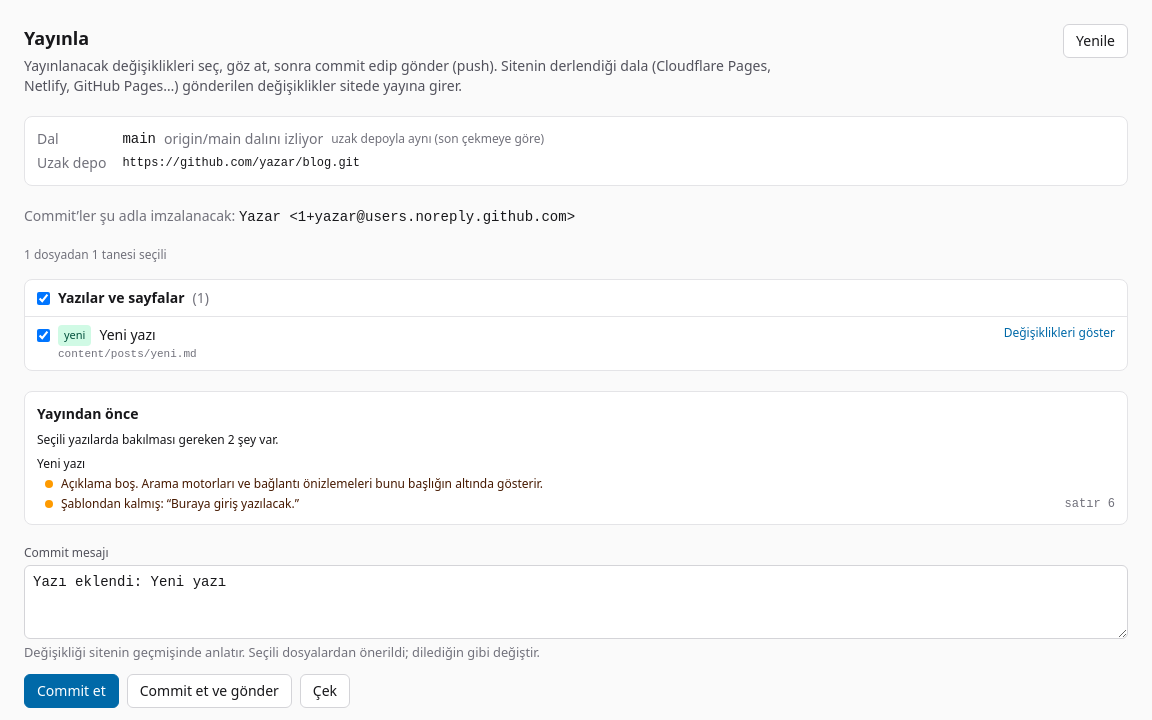
PublishView › shows pre-publish checks and asks before committing with problems
The image size is (1152, 720).
expect the element named "Yayından önce" shows "Açıklama boş": met, box [61, 475, 543, 492]
expect the element named "Yayından önce" shows "Şablondan kalmış: “Buraya giriş yazılacak.”": met, box [61, 495, 299, 512]
What coordinates should you click on to do the following:
click the button "Commit et"
I would click on:
 (71, 691)
Its box is [24, 674, 119, 708].
(page scrolled)
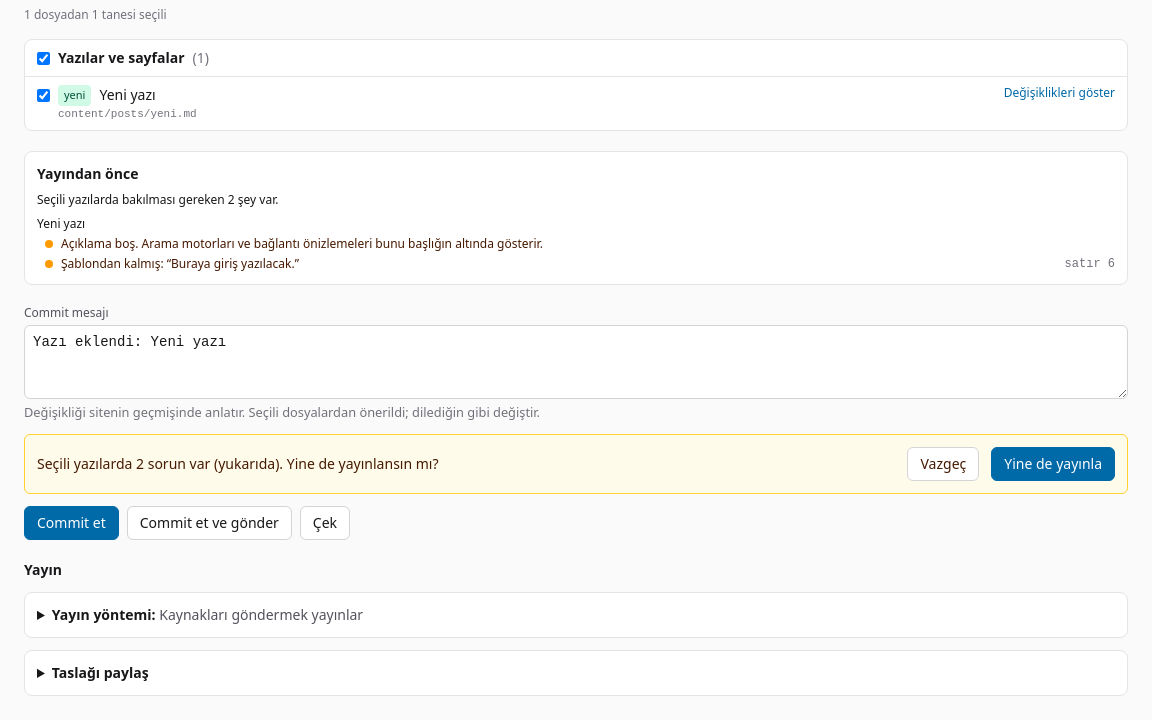
expect the text "Yine de yayınlansın mı?" is shown: met, box [37, 454, 438, 473]
What coordinates should you click on to do the following:
click the button "Yine de yayınla"
I would click on:
 (1053, 464)
Its box is [991, 447, 1115, 481].
(page scrolled)
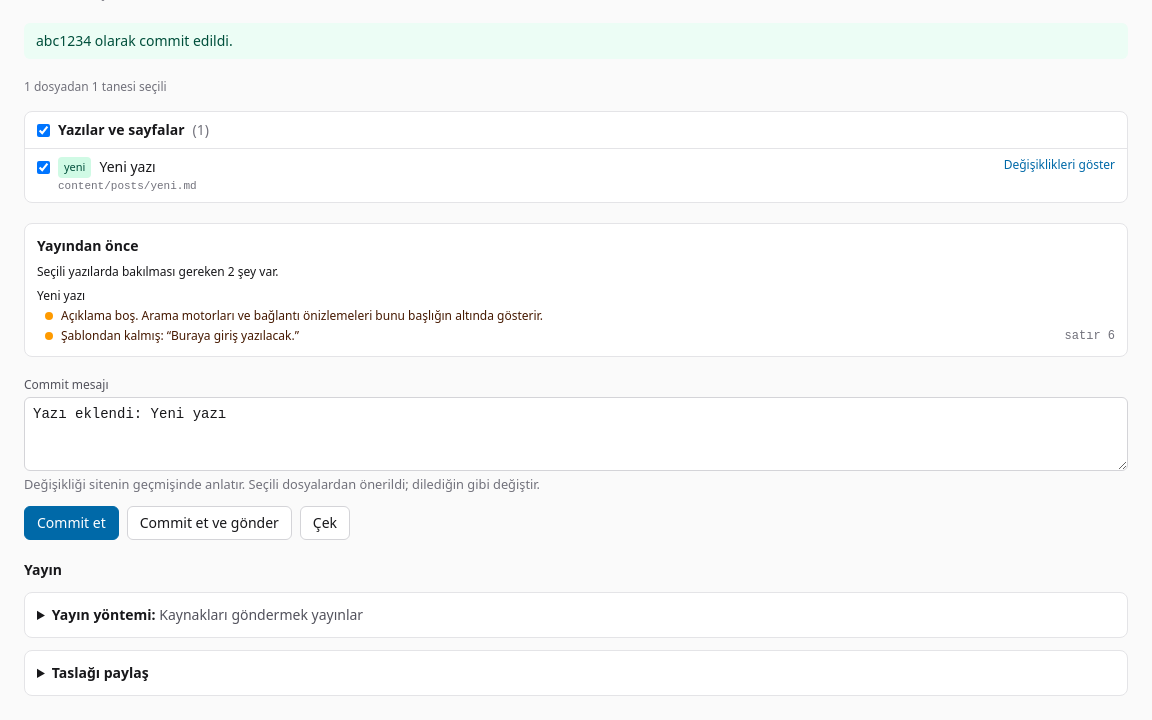
expect the text "abc1234 olarak commit edildi." is shown: met, box [24, 23, 1128, 59]
